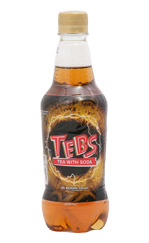botol: (34, 6, 111, 234)
